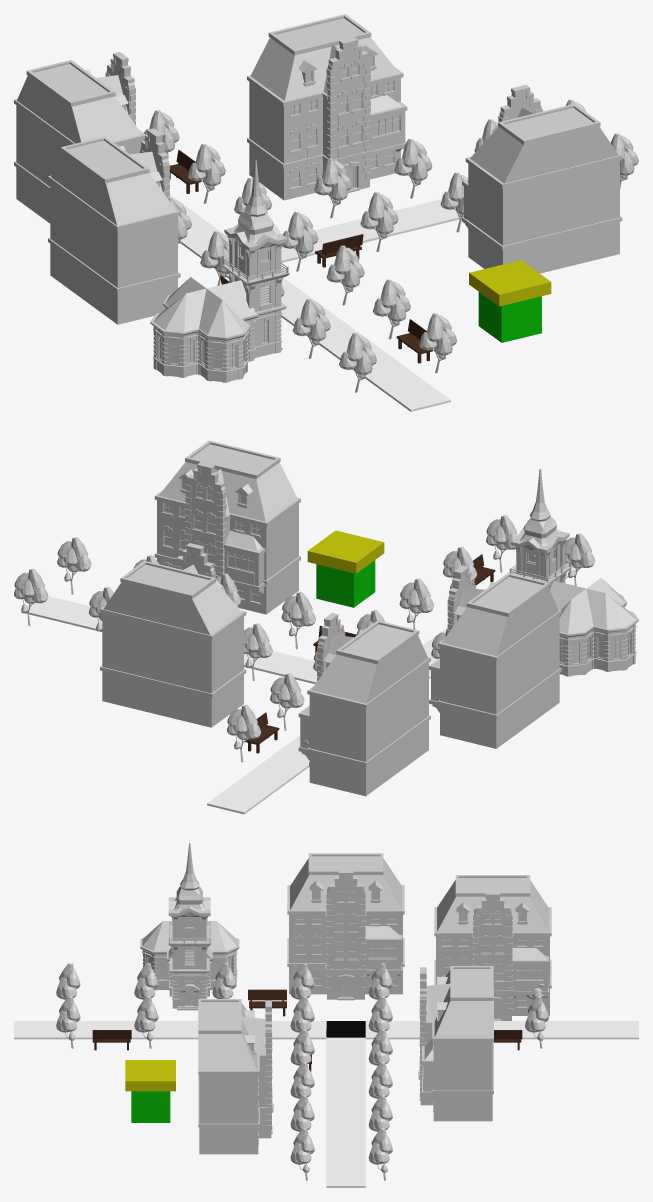
The model's file is Stad.fbx.
3 renders of one model, top to bottom at view 1: azimuth 30°, elevation 25°; view 2: azimuth 150°, elevation 25°; view 3: azimuth 270°, elevation 25°, orthographic. The views are drawn at different scales.
Parts seen in each view (by area): view 1: Main-2-1 (×4), Church(Clone), Birchtree(Clone) (×14), Height Road straight(Clone) (×4), Cube.001, Cube, bench_2_v_2(Clone) (×3), WallExtension-2-1; view 2: Main-2-1 (×4), Church(Clone), Birchtree(Clone) (×11), Height Road straight(Clone) (×6), Cube.001, Cube, WallExtension-2-1; view 3: Main-2-1 (×4), Birchtree(Clone) (×18), Height Road straight(Clone) (×16), Church(Clone), WallExtension-2-1 (×3), Cube.001, bench_2_v_2(Clone) (×2), Cube, Height Road T crossing(Clone).
Boxes of the visible parts, box(x1,y1,x2,y2) form: Main-2-1 (×4): box(14, 14, 622, 324); Church(Clone): box(150, 160, 289, 382); Birchtree(Clone) (×14): box(144, 110, 638, 392); Height Road straight(Clone) (×4): box(323, 199, 459, 411); Cube.001: box(469, 260, 551, 306); Cube: box(478, 292, 541, 342); bench_2_v_2(Clone) (×3): box(169, 150, 432, 363); WallExtension-2-1: box(370, 95, 407, 156); Main-2-1 (×4): box(100, 440, 561, 796); Church(Clone): box(509, 468, 638, 676); Birchtree(Clone) (×11): box(14, 515, 595, 762); Height Road straight(Clone) (×6): box(24, 596, 308, 814); Cube.001: box(307, 530, 384, 573); Cube: box(316, 560, 375, 607); WallExtension-2-1: box(223, 530, 265, 593); Main-2-1 (×4): box(198, 853, 551, 1154); Birchtree(Clone) (×18): box(56, 963, 549, 1180); Height Road straight(Clone) (×16): box(14, 1021, 638, 1187); Church(Clone): box(140, 843, 239, 1010); WallExtension-2-1 (×3): box(365, 926, 548, 1101); Cube.001: box(125, 1060, 175, 1091); bench_2_v_2(Clone) (×2): box(92, 989, 286, 1050); Cube: box(131, 1091, 170, 1122); Height Road T crossing(Clone): box(326, 1021, 365, 1037).
Size of what is drawn, in the model's own units: 13.75 by 4.98 by 16.
